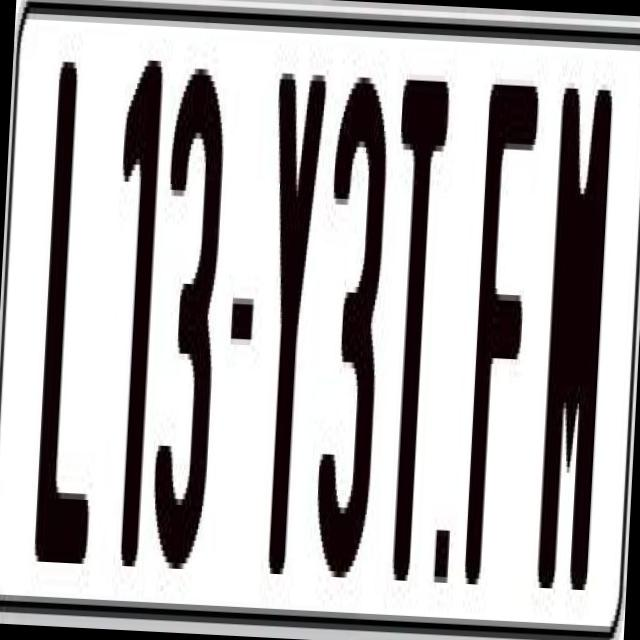1: (101, 60, 166, 572)
3: (151, 56, 237, 559), (310, 70, 394, 573)
F: (463, 67, 545, 575)
L: (32, 56, 117, 564)
M: (536, 70, 622, 596)
T: (376, 73, 448, 600)
Y: (253, 68, 329, 576)
